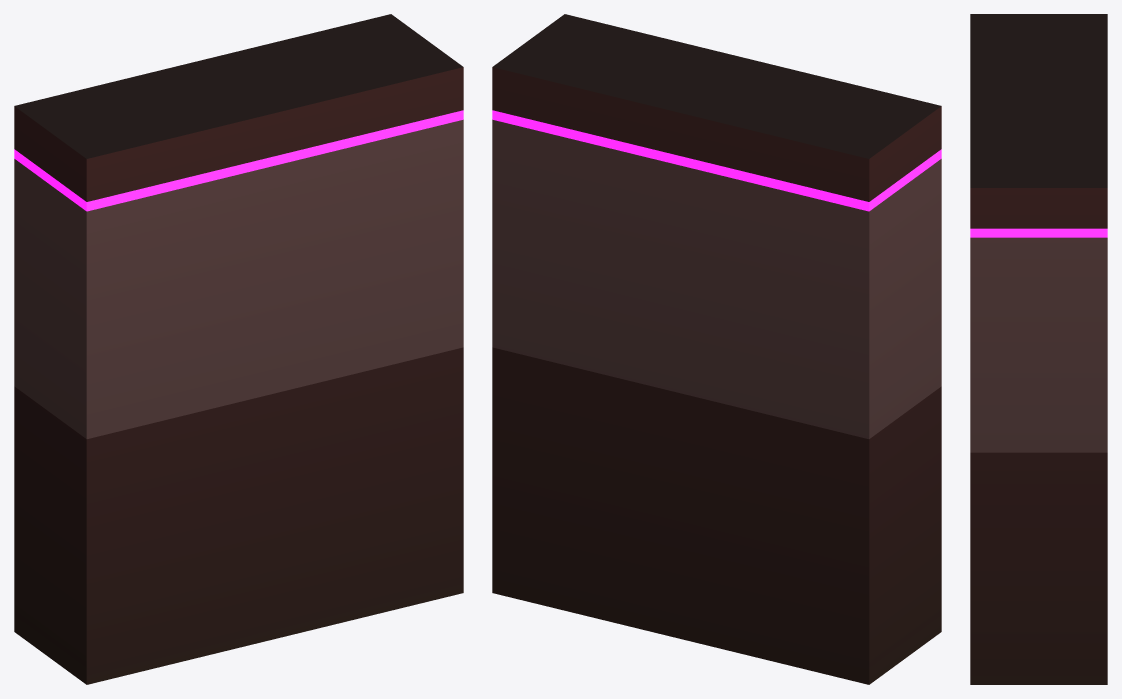
The model's file is WallStraight2.fbx.
3 views of the same model, side by side, from view 1: azimuth 30°, elevation 25°; view 2: azimuth 150°, elevation 25°; view 3: azimuth 270°, elevation 25° (orthographic). The views are drawn at different scales.
Parts seen in each view (by area): view 1: WallStraight2; view 2: WallStraight2; view 3: WallStraight2.
Boxes of the visible parts, bbox=[...] form: WallStraight2: bbox=[14, 14, 463, 684]; WallStraight2: bbox=[492, 14, 941, 684]; WallStraight2: bbox=[970, 14, 1107, 684].
Size of the model in its own units: 300 by 400 by 100.
